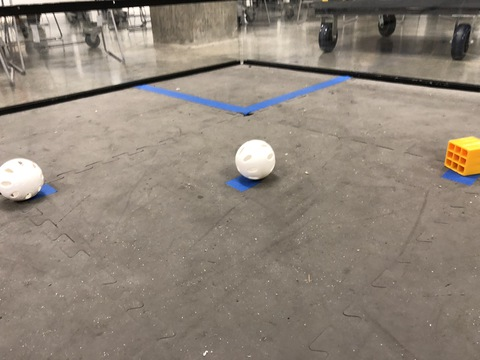ball: (2, 143, 61, 215), (225, 136, 288, 189)
block: (439, 124, 480, 183)
